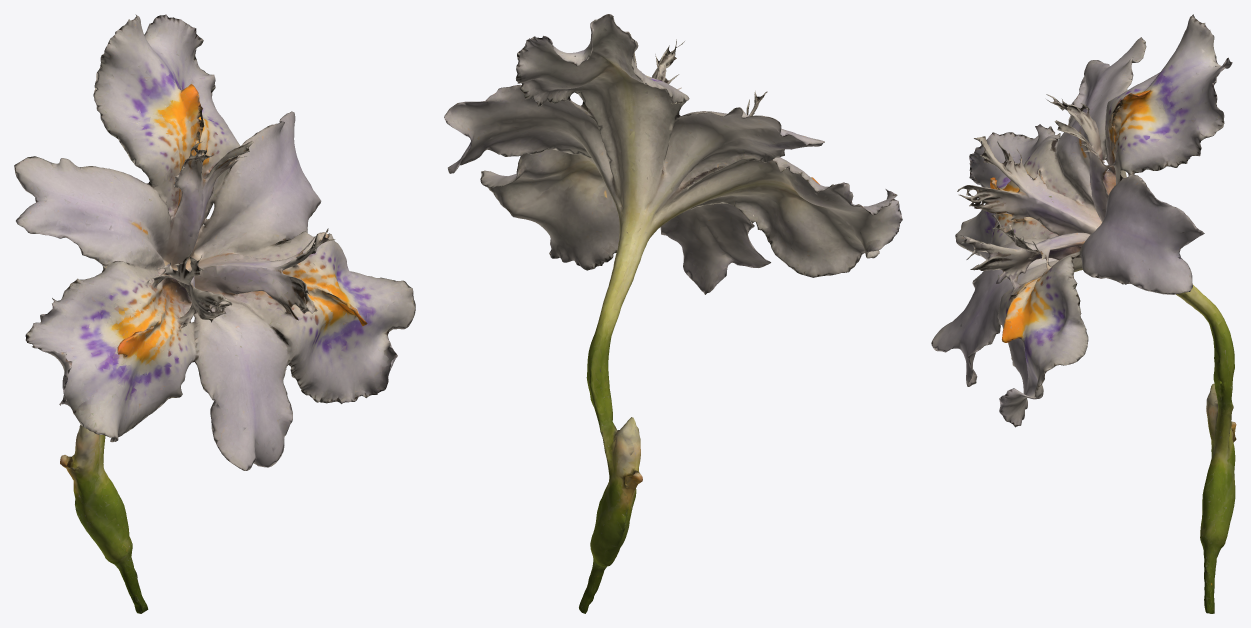
File: crested_iris_holo_ready.glb
3 views of the same model, side by side, from view 1: azimuth 30°, elevation 25°; view 2: azimuth 150°, elevation 25°; view 3: azimuth 270°, elevation 25° (orthographic). The views are drawn at different scales.
Parts seen in each view (by area): view 1: CrestedIrisSpecimenMain; view 2: CrestedIrisSpecimenMain; view 3: CrestedIrisSpecimenMain.
Boxes of the visible parts, x1,y1,x2,y2 form: CrestedIrisSpecimenMain: [14, 14, 415, 613]; CrestedIrisSpecimenMain: [444, 14, 902, 613]; CrestedIrisSpecimenMain: [931, 14, 1236, 613].
Bounding box in the file's own units: 4.01 × 5.83 × 2.73.
1 material, 1 textured.
